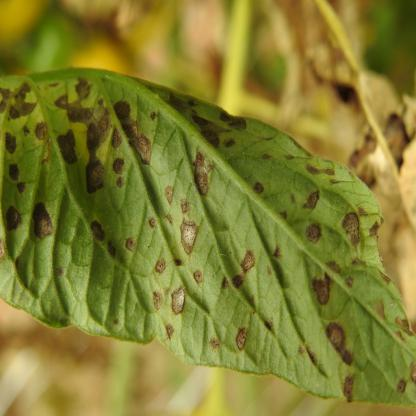Tomato Septoria leaf spot: (1, 47, 412, 405)
